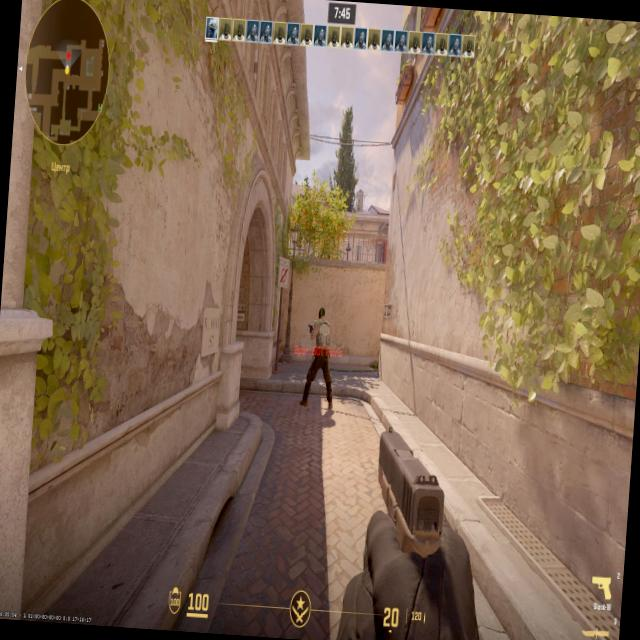T: (312, 308, 333, 386)
T_heat: (318, 312, 324, 324)
